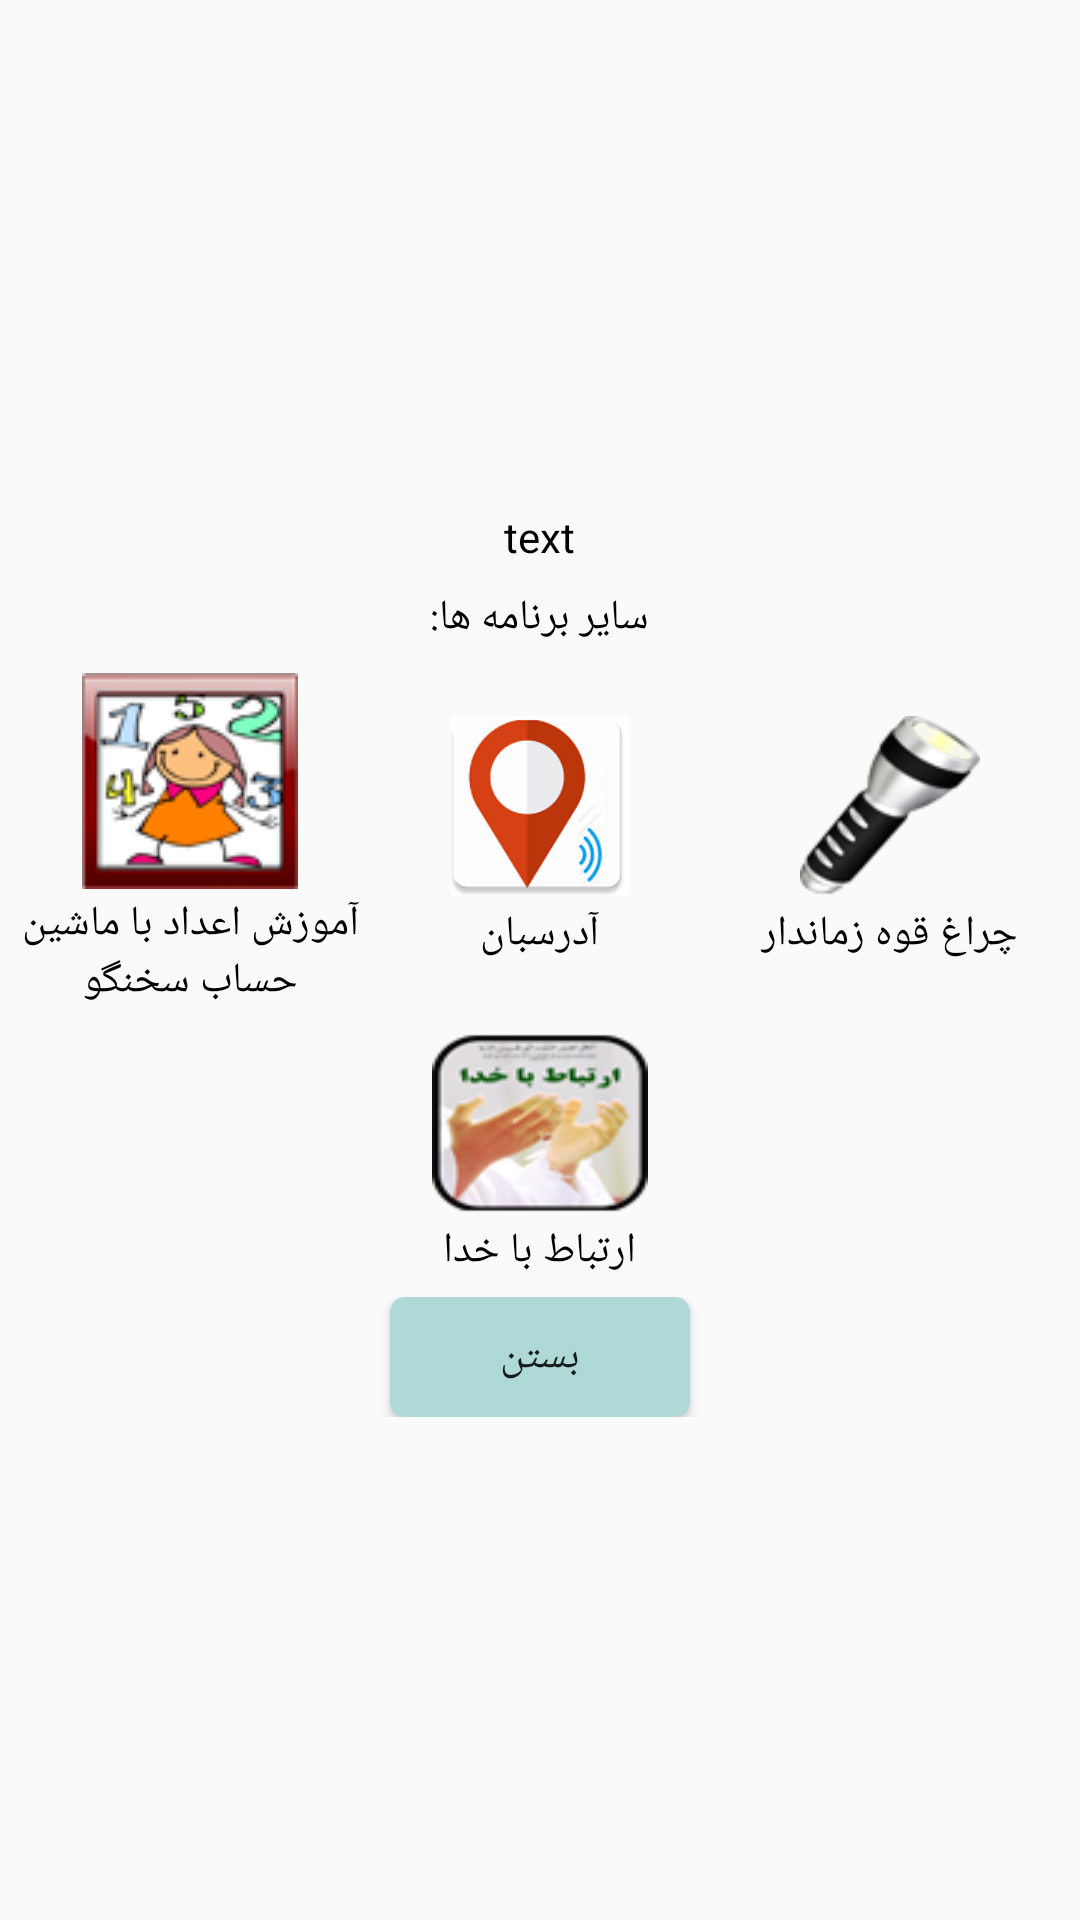

Icons on this 1080w x 1920h Android screen, each with the point to tap as (x,y):
monajat: (540,1123)
